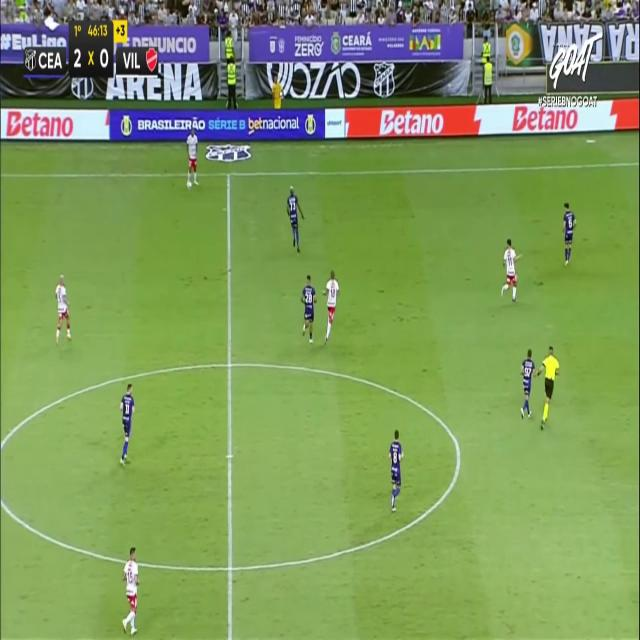ball: (187, 168, 194, 197)
player: (122, 547, 140, 634), (500, 238, 522, 302), (321, 269, 339, 344), (119, 382, 135, 466), (388, 429, 404, 511), (286, 185, 304, 252), (55, 274, 72, 343), (519, 348, 535, 418), (300, 274, 316, 342), (562, 201, 576, 266), (186, 127, 199, 188)
referee: (536, 344, 560, 429)
